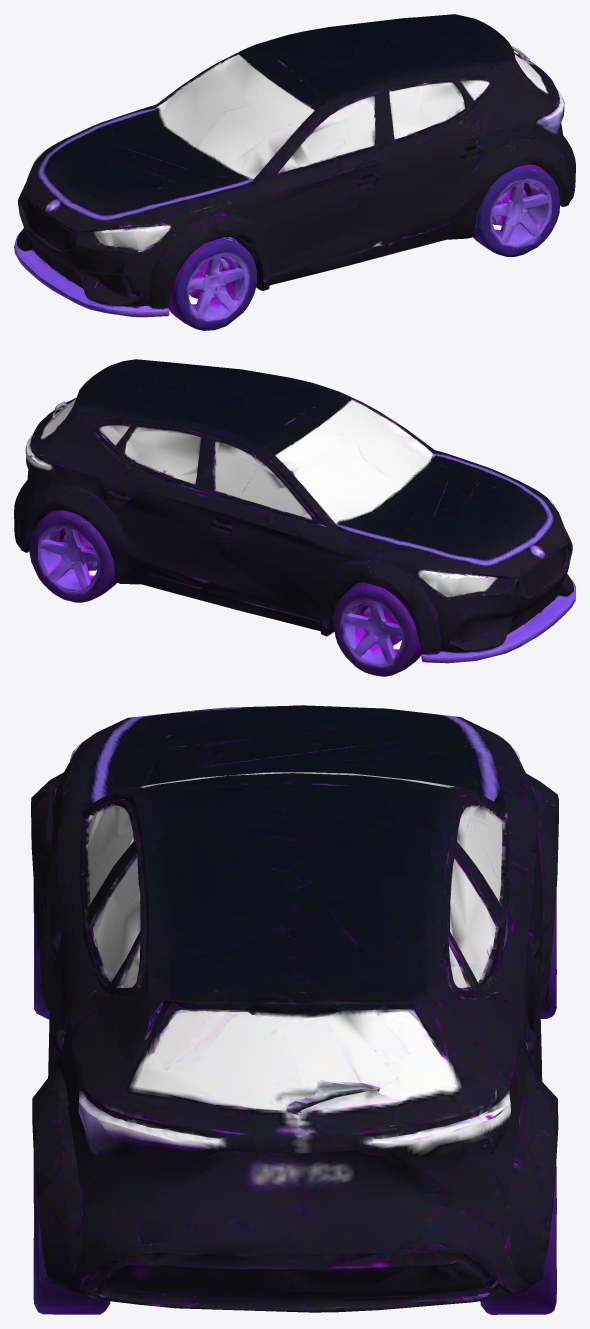
Rendered from cupra.glb.
The picture shows the model from 3 angles, top to bottom: view 1: azimuth 30°, elevation 25°; view 2: azimuth 150°, elevation 25°; view 3: azimuth 270°, elevation 25°; orthographic projection. The views are drawn at different scales.
Size of the model in its own units: 1.9 by 0.6691 by 0.867.
Materials: 1 (1 with a texture image).
